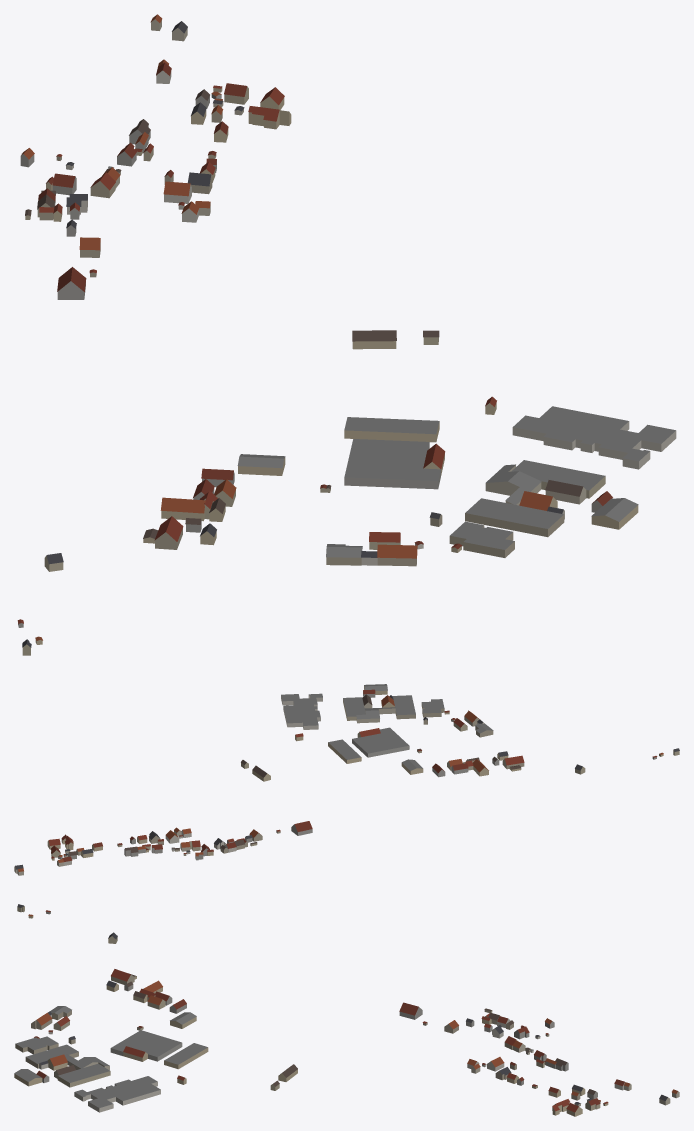
3 renders of one model, top to bottom at view 1: azimuth 30°, elevation 25°; view 2: azimuth 150°, elevation 25°; view 3: azimuth 270°, elevation 25°, orthographic. The views are drawn at different scales.
Parts seen in each view (by area): view 1: buildings; view 2: buildings; view 3: buildings.
Part boxes in pixels (x1=…): buildings: x1=17, y1=14, x2=676, y2=655; buildings: x1=14, y1=684, x2=679, y2=875; buildings: x1=14, y1=904, x2=679, y2=1116.
Bounding box in the file's own units: 588 × 39.79 × 802.
